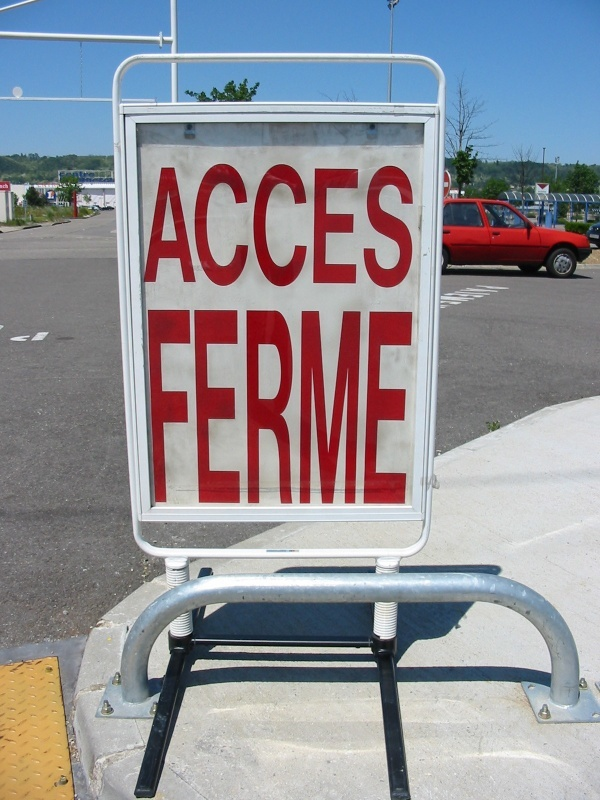text: (161, 309, 176, 505), (177, 309, 192, 505), (193, 309, 208, 505), (209, 309, 224, 505), (225, 309, 240, 505), (241, 309, 256, 505), (257, 309, 272, 505), (273, 309, 288, 505), (289, 309, 304, 505), (305, 309, 320, 505), (321, 309, 336, 505), (337, 309, 352, 505), (353, 309, 368, 505), (369, 309, 384, 505), (385, 309, 400, 505), (146, 309, 160, 505), (401, 309, 414, 505), (145, 163, 160, 289), (161, 163, 176, 289), (177, 163, 192, 289), (193, 163, 208, 289), (209, 163, 224, 289), (225, 163, 240, 289), (241, 163, 256, 289), (257, 163, 272, 289), (273, 163, 288, 289), (289, 163, 304, 289), (305, 163, 320, 289), (321, 163, 336, 289), (337, 163, 352, 289), (353, 163, 368, 289), (369, 163, 384, 289), (385, 163, 400, 289), (401, 163, 416, 289), (497, 285, 513, 312), (433, 285, 448, 312), (449, 285, 464, 312), (465, 285, 480, 312), (481, 285, 496, 312), (424, 285, 432, 312), (17, 332, 32, 342), (33, 332, 48, 342), (143, 163, 144, 289), (81, 177, 96, 183), (97, 177, 112, 183), (65, 172, 80, 177), (1, 184, 16, 189), (81, 172, 95, 177), (38, 182, 48, 188), (49, 182, 57, 188), (49, 192, 55, 199), (273, 551, 288, 553), (59, 172, 64, 177), (537, 191, 544, 194), (49, 332, 51, 342), (289, 551, 298, 553), (113, 177, 115, 183), (267, 551, 272, 553), (545, 191, 548, 194), (79, 177, 80, 183)
